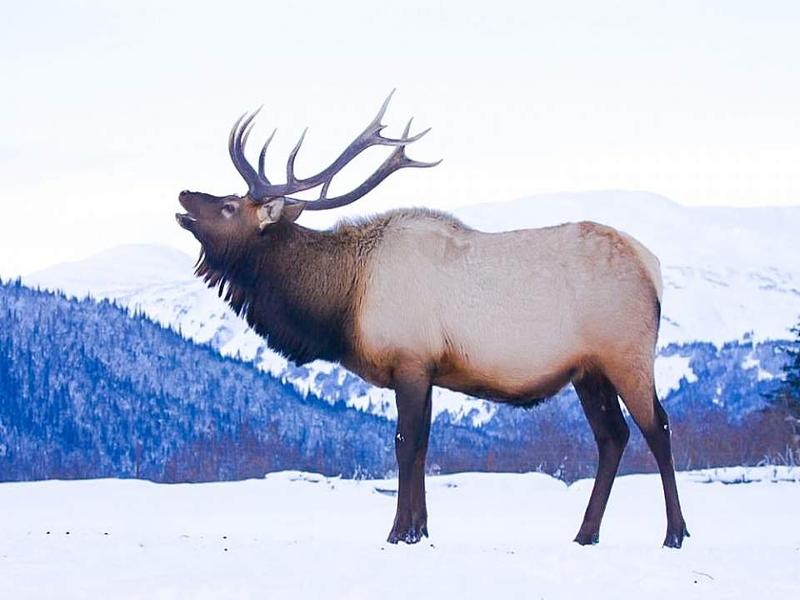elk: (175, 92, 691, 555)
